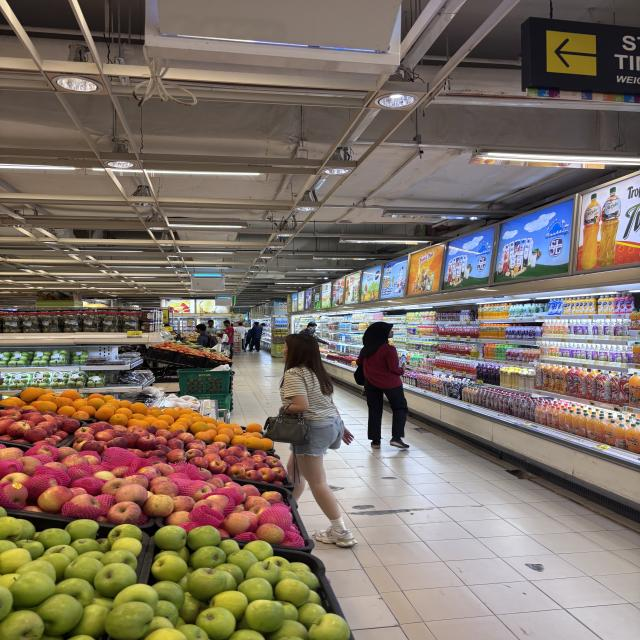Person: (262, 327, 368, 555), (351, 316, 418, 458), (193, 323, 218, 351), (222, 320, 236, 360), (246, 320, 262, 352), (234, 321, 248, 346), (206, 319, 218, 332)
